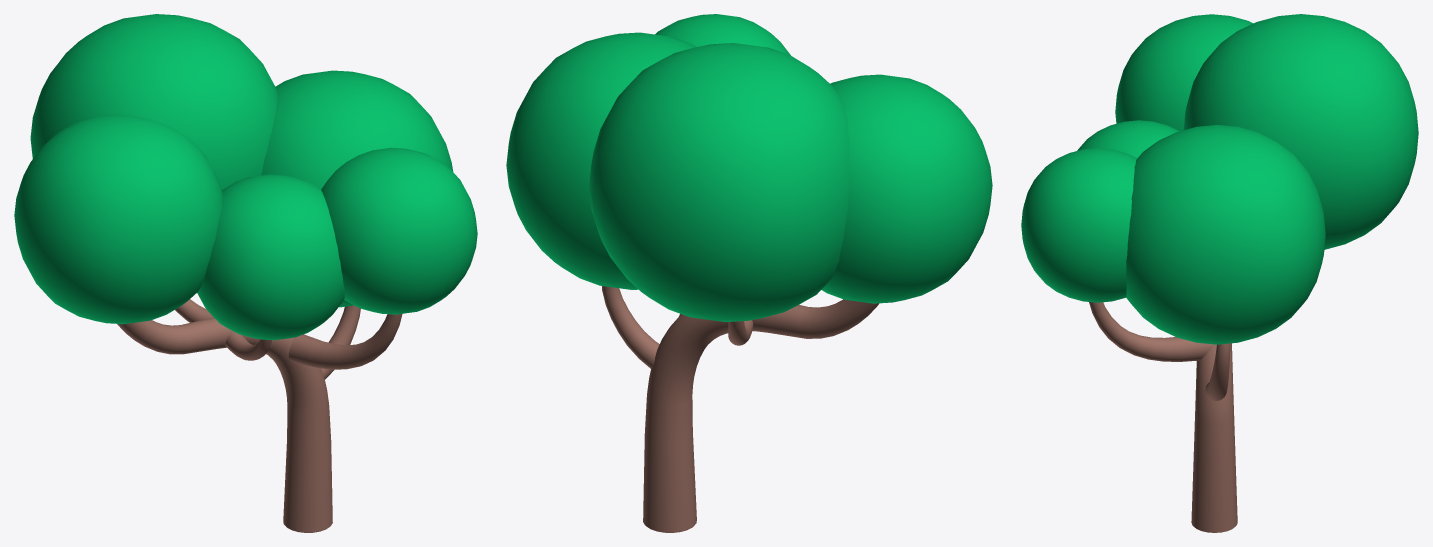
The model's file is City_12_Tree_1.glb.
The picture shows the model from 3 angles, left to right: view 1: azimuth 30°, elevation 25°; view 2: azimuth 150°, elevation 25°; view 3: azimuth 270°, elevation 25°; orthographic projection. The views are drawn at different scales.
Parts seen in each view (by area): view 1: City_12_Tree_1; view 2: City_12_Tree_1; view 3: City_12_Tree_1.
Boxes of the visible parts, box(x1,y1,x2,y2) form: City_12_Tree_1: box(14, 14, 477, 532); City_12_Tree_1: box(506, 14, 992, 532); City_12_Tree_1: box(1021, 14, 1418, 532).
Bounding box in the file's own units: 6.32 × 7.16 × 5.72.
Materials: 1 (1 with a texture image).
